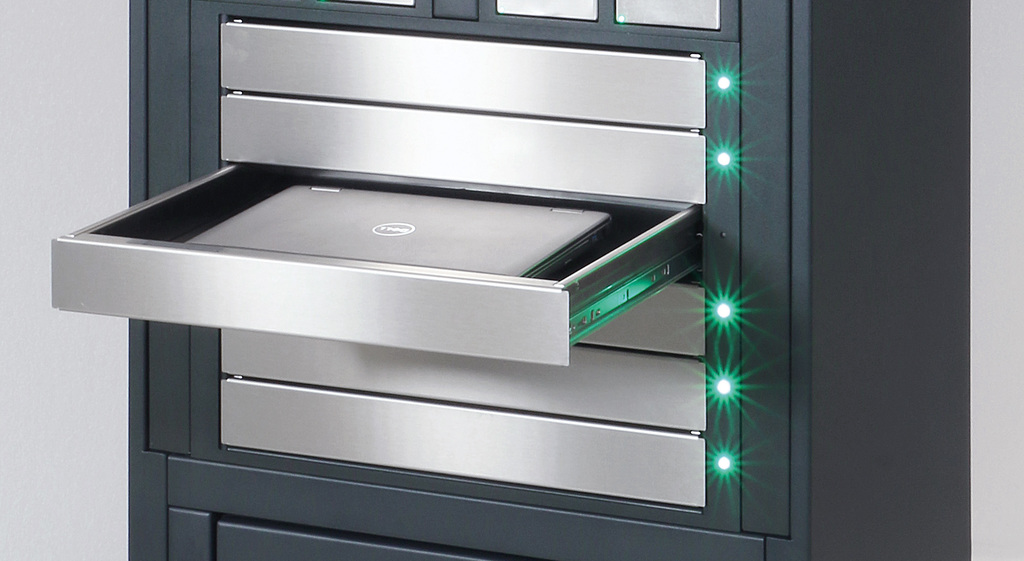cabinet door: (49, 235, 590, 358), (218, 371, 713, 497), (216, 92, 717, 196), (214, 325, 717, 426), (225, 30, 701, 118)
